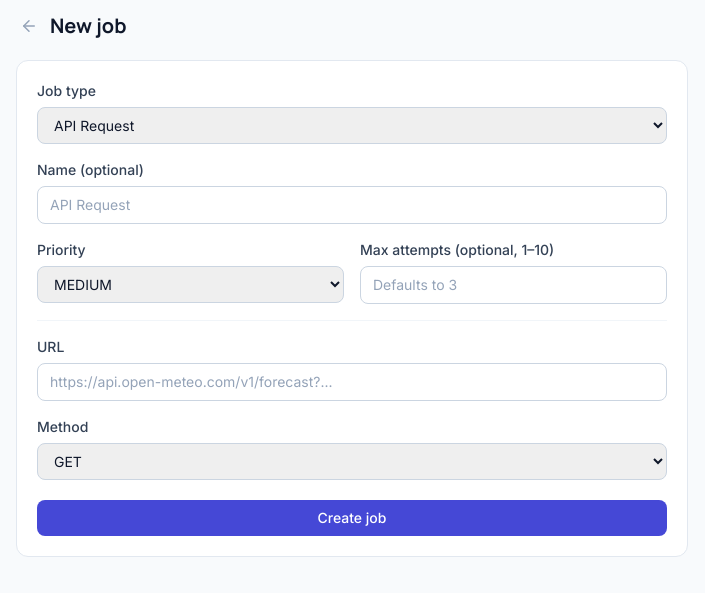
it: JobCreatePage › switches to a raw JSON textarea for Data Transformation
The width and height of the screenshot is (705, 593).
Select "Data Transformation" in the dropdown labelled "Job type" at [352, 126], box top-left (37, 107), bottom-right (667, 144)
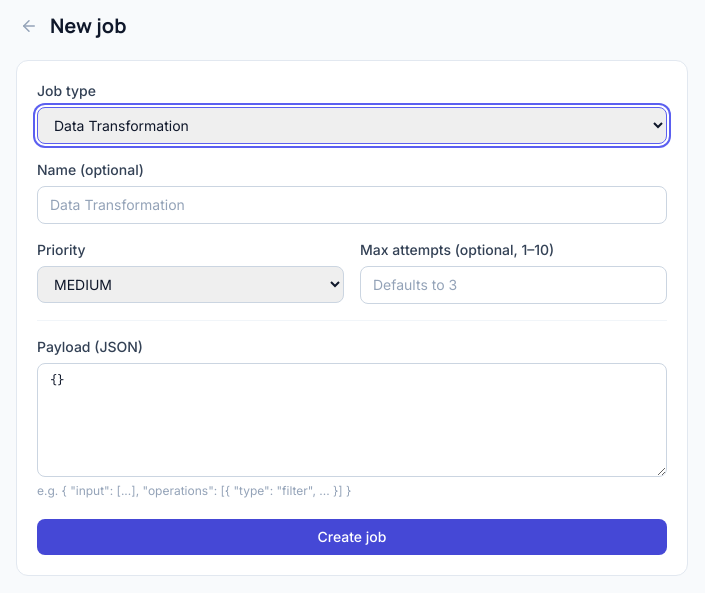
Result: the text box labelled "Payload (JSON)" is shown at top-left (37, 363), bottom-right (667, 477)
